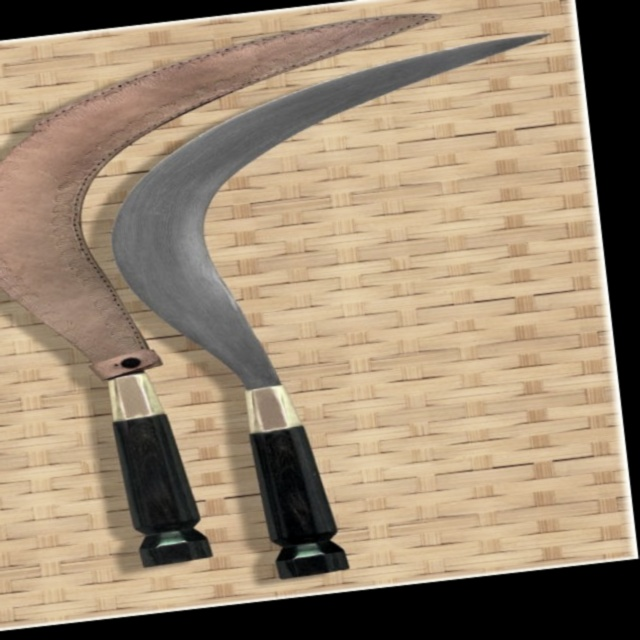Sharp-Object: (79, 23, 631, 607)
